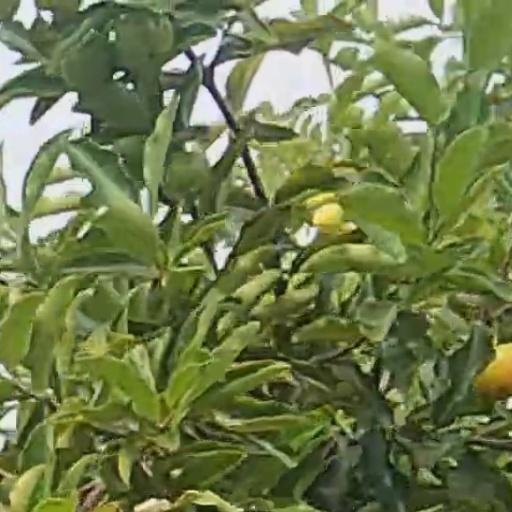acerola: (474, 343, 510, 402)
